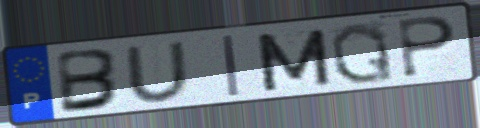B: (55, 47, 124, 116)
I: (219, 33, 242, 99)
M: (251, 26, 335, 94)
P: (396, 14, 460, 80)
Q: (327, 20, 398, 86)
U: (121, 39, 194, 105)
